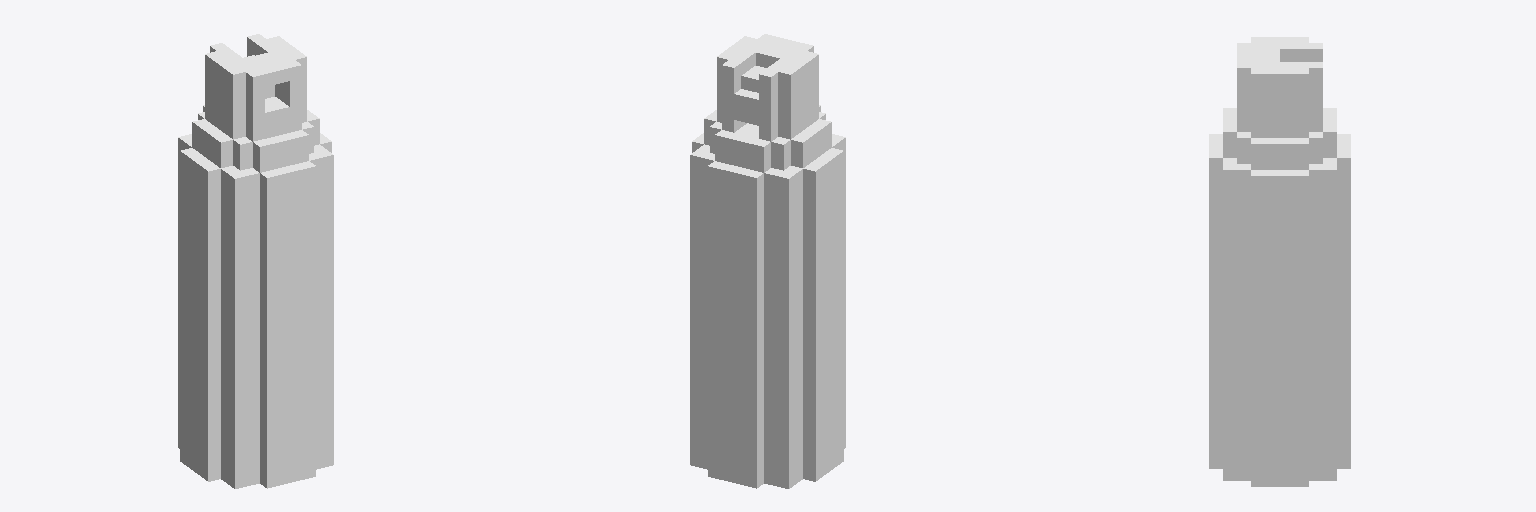
Rendered from SprayCan.obj.
The picture shows the model from 3 angles: view 1: azimuth 30°, elevation 25°; view 2: azimuth 150°, elevation 25°; view 3: azimuth 270°, elevation 25°; orthographic projection.
Visible parts, largest first — view 1: object 1; view 2: object 1; view 3: object 1.
Part boxes in pixels (x1,y1,x2,y2): object 1: (178, 34, 333, 488); object 1: (690, 34, 845, 488); object 1: (1209, 37, 1350, 486).
Bounding box in the file's own units: 1 × 3.1 × 1.